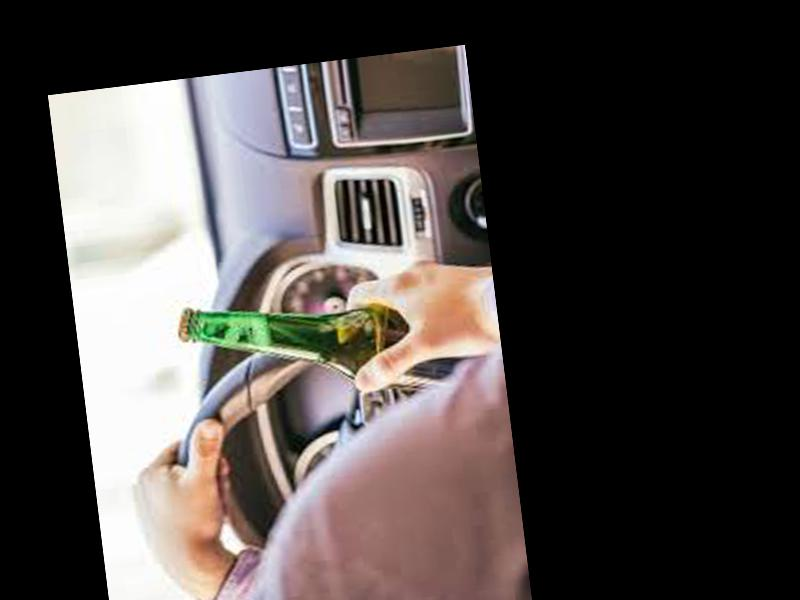Beer: (173, 271, 492, 423)
